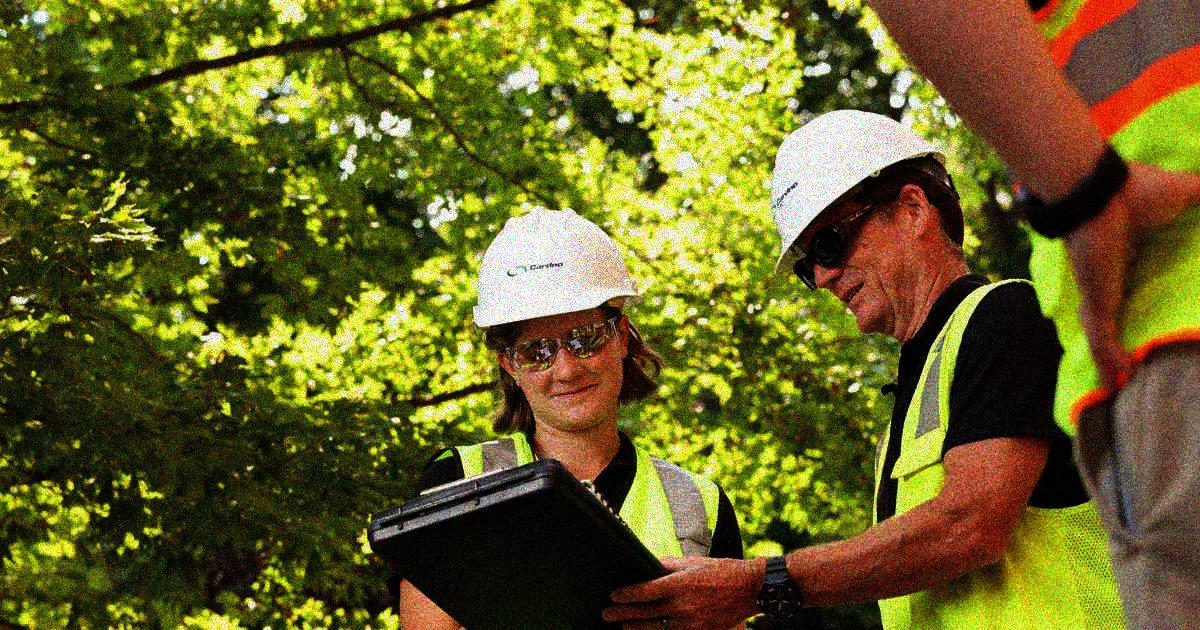helmet: (764, 102, 962, 332), (471, 204, 644, 431)
